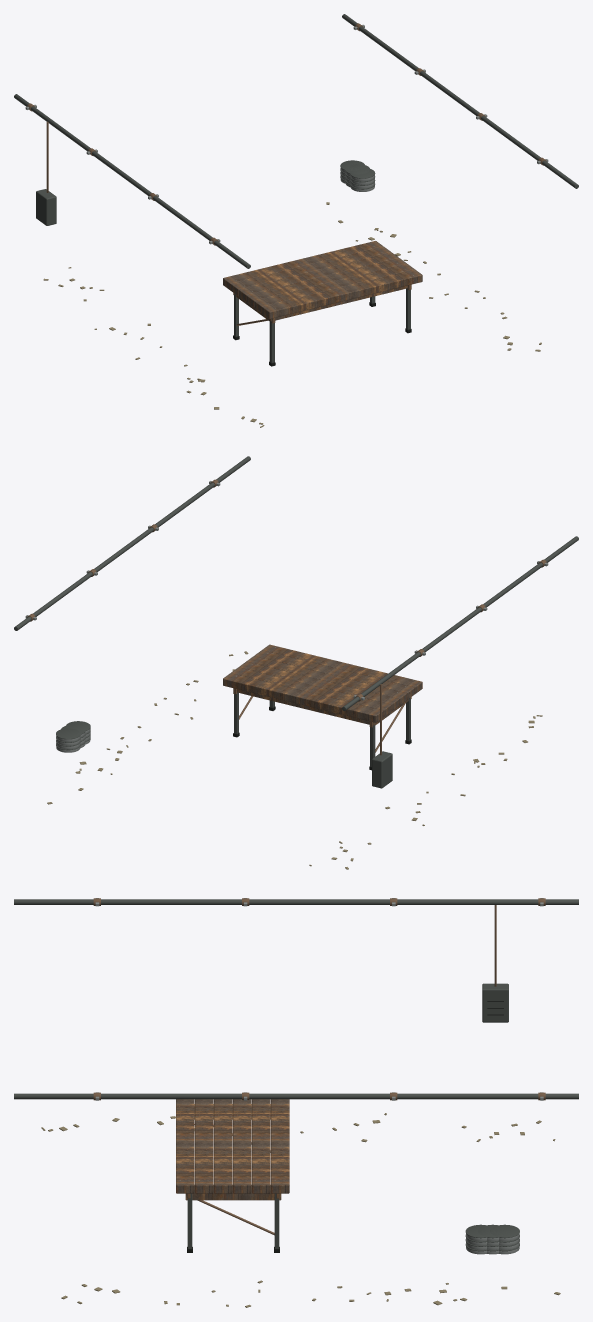
File: room_props.glb
3 renders of one model, top to bottom at view 1: azimuth 30°, elevation 25°; view 2: azimuth 150°, elevation 25°; view 3: azimuth 270°, elevation 25°, orthographic. The views are drawn at different scales.
Visible parts, largest first — view 1: AgedOak, EnamelMetal, BrushedSteel, OldCardboard, OxidizedSteel; view 2: AgedOak, EnamelMetal, BrushedSteel, OxidizedSteel, OldCardboard; view 3: AgedOak, EnamelMetal, BrushedSteel, OxidizedSteel, OldCardboard.
Part boxes in pixels (x1,y1,x2,y2): AgedOak: (223, 241, 422, 323); EnamelMetal: (14, 14, 578, 362); BrushedSteel: (25, 24, 548, 308); OldCardboard: (43, 202, 541, 427); OxidizedSteel: (27, 23, 546, 325); AgedOak: (223, 644, 422, 727); EnamelMetal: (14, 456, 578, 788); BrushedSteel: (25, 481, 548, 752); OxidizedSteel: (27, 479, 546, 755); OldCardboard: (47, 651, 542, 869); AgedOak: (176, 1099, 289, 1200); EnamelMetal: (14, 899, 578, 1251); BrushedSteel: (95, 898, 543, 1254); OxidizedSteel: (93, 898, 545, 1235); OldCardboard: (41, 1113, 560, 1307).
Size of the model in its own units: 5.18 by 2.57 by 6.1.
6 materials, 1 textured.
